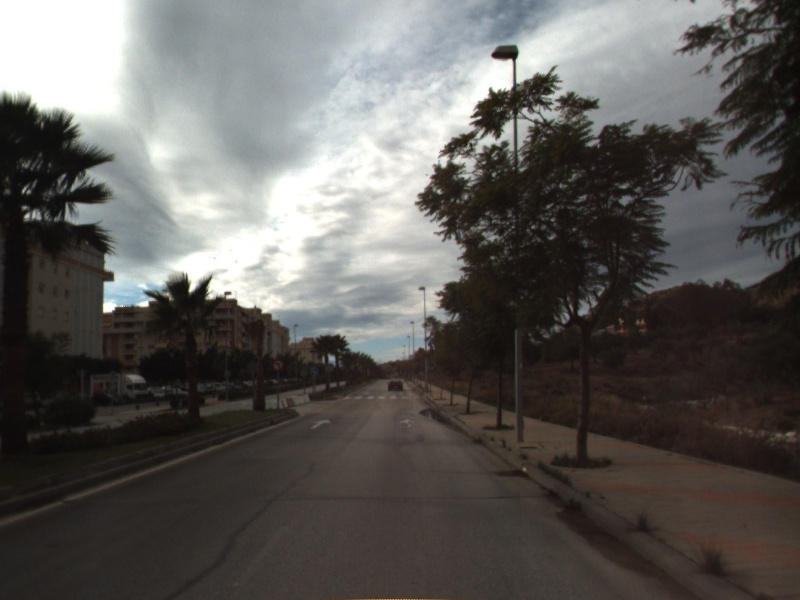STRAIGHT: (308, 417, 333, 431), (397, 417, 417, 431)
